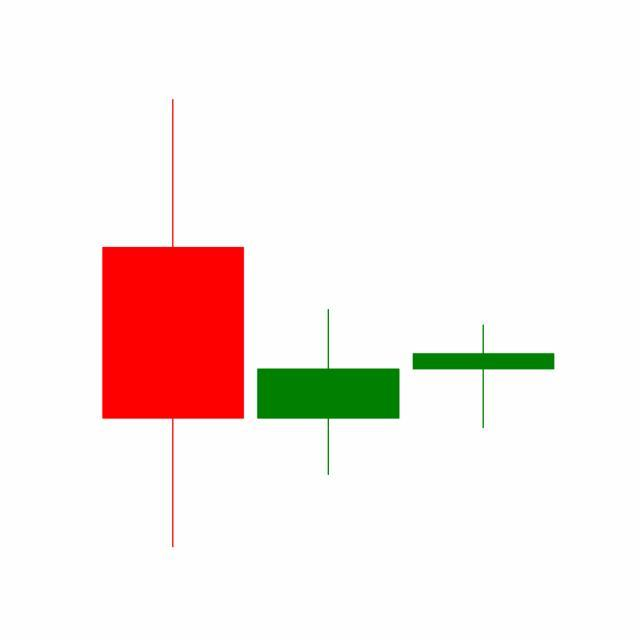Hammer: (406, 324, 562, 431)
